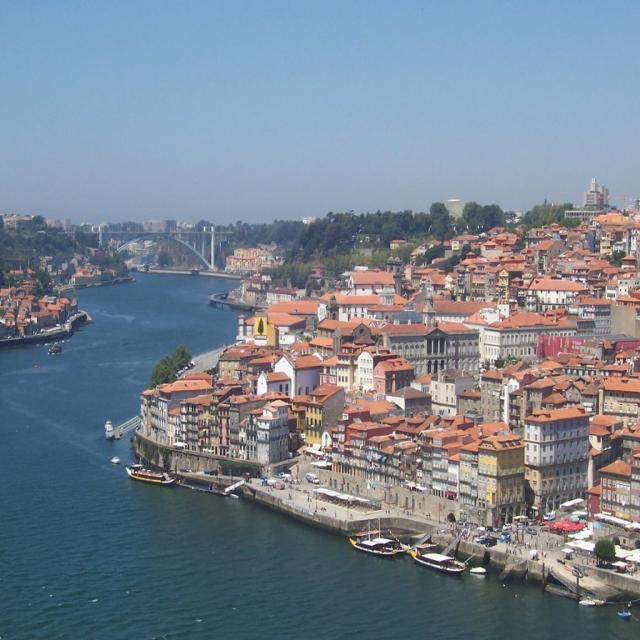Boat: (118, 452, 181, 490), (409, 534, 463, 577), (348, 519, 398, 559), (574, 588, 614, 608), (616, 601, 638, 621), (470, 555, 489, 578), (105, 419, 118, 445), (50, 340, 60, 355)
